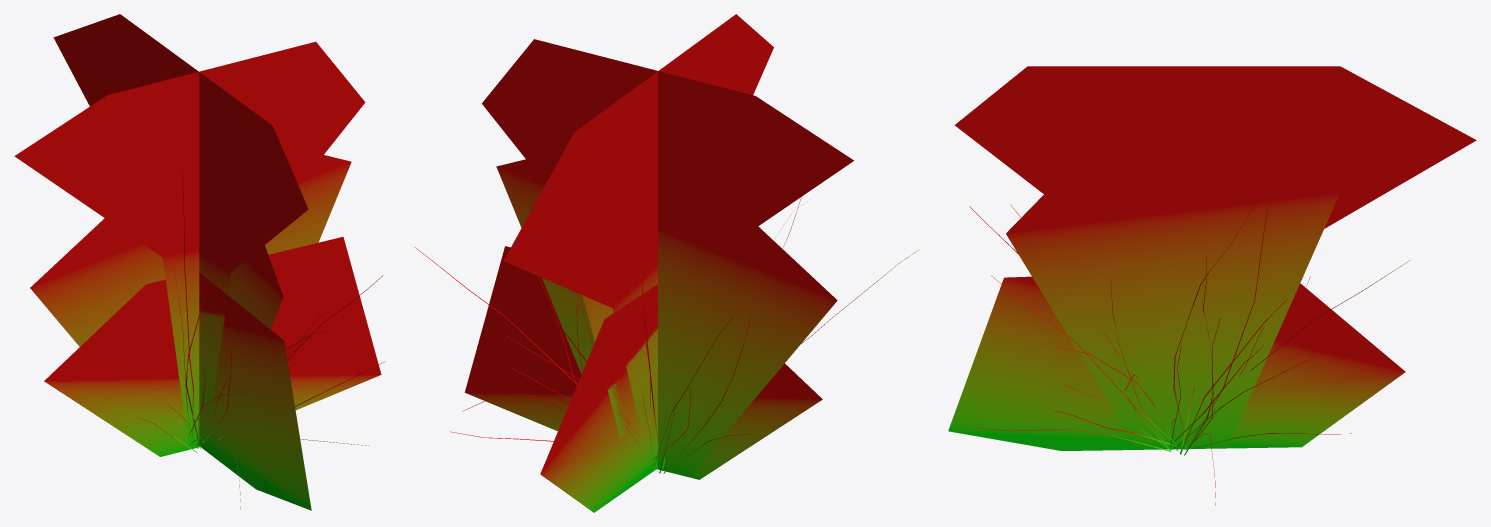
The model's file is Xeric Grass_LOD5_Var8_xjfgdhaqx.fbx.
3 views of the same model, side by side, from view 1: azimuth 30°, elevation 25°; view 2: azimuth 150°, elevation 25°; view 3: azimuth 270°, elevation 25° (orthographic). The views are drawn at different scales.
Parts seen in each view (by area): view 1: _91hr_Var8_LOD5; view 2: _91hr_Var8_LOD5; view 3: _91hr_Var8_LOD5.
Boxes of the visible parts, x1=… form: _91hr_Var8_LOD5: x1=14, y1=14, x2=385, y2=510; _91hr_Var8_LOD5: x1=414, y1=14, x2=917, y2=512; _91hr_Var8_LOD5: x1=948, y1=66, x2=1476, y2=505.
Size of the model in its own units: 342 by 332 by 411.
